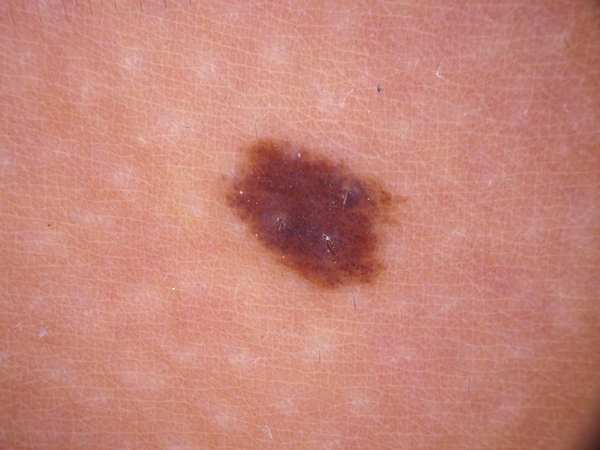Detected Lesion: (221, 135, 413, 298)
